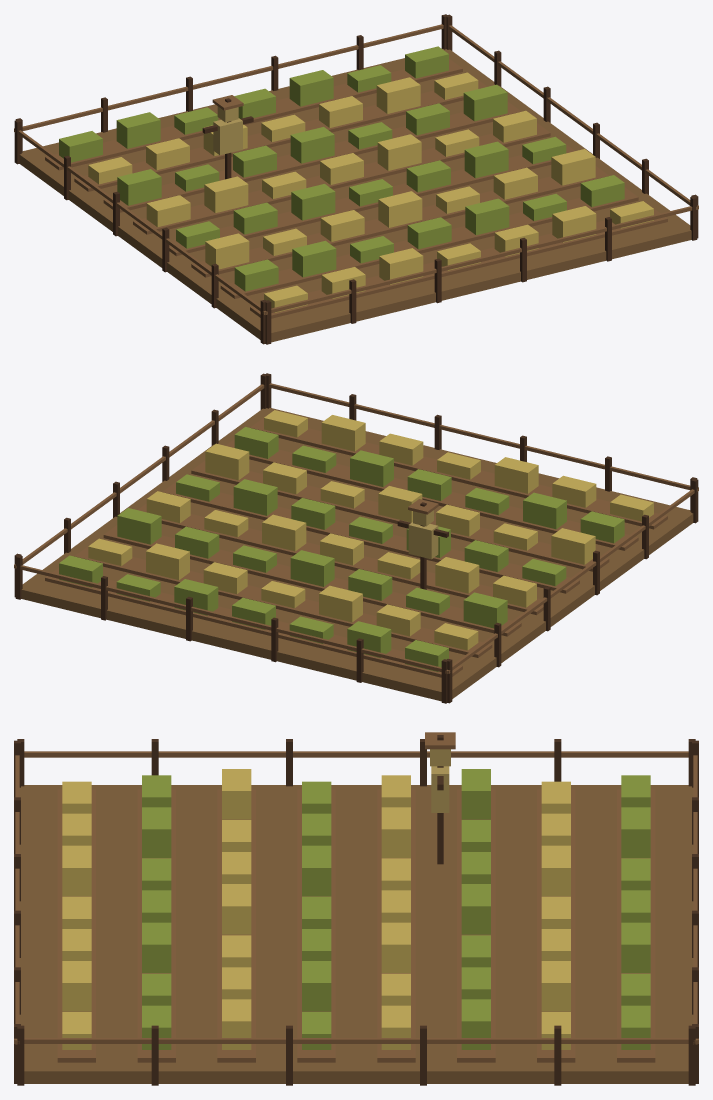
File: farm.glb
3 renders of one model, top to bottom at view 1: azimuth 30°, elevation 25°; view 2: azimuth 150°, elevation 25°; view 3: azimuth 270°, elevation 25°, orthographic. The views are drawn at different scales.
Parts seen in each view (by area): view 1: farm; view 2: farm; view 3: farm.
Boxes of the visible parts, bbox=[...] form: farm: bbox=[14, 14, 698, 344]; farm: bbox=[14, 373, 698, 703]; farm: bbox=[14, 732, 698, 1085].
Size of the model in its own units: 9.8 by 2.2 by 9.8.
